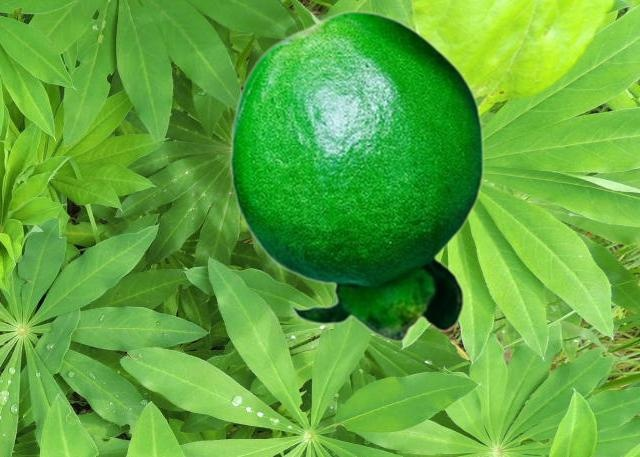guava: (228, 10, 484, 341)
